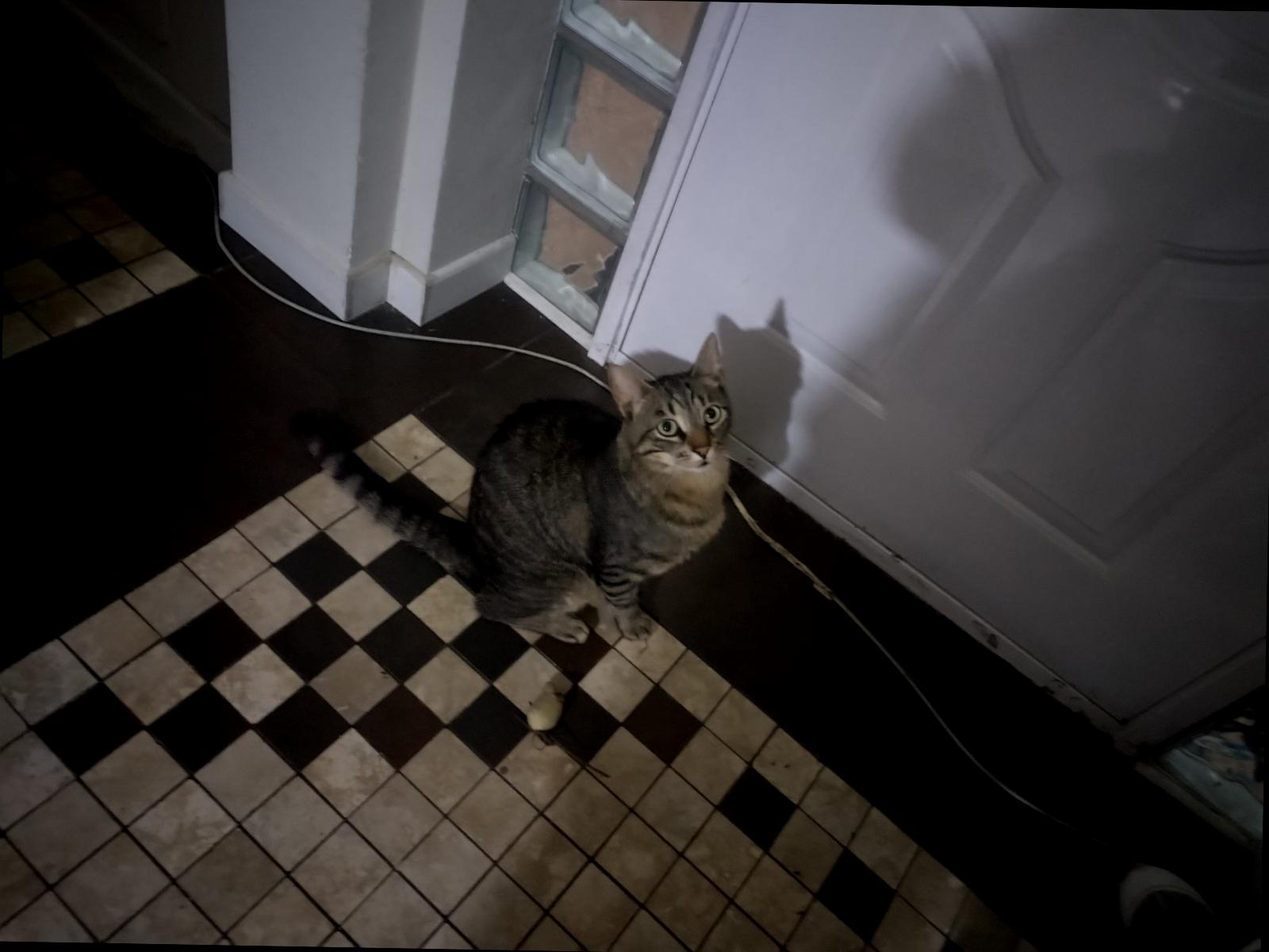macka: (291, 324, 737, 647)
